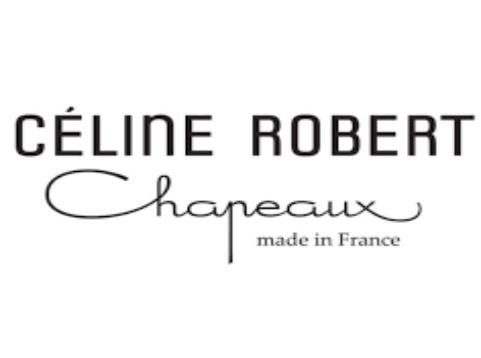CELINE: (4, 97, 228, 167)
